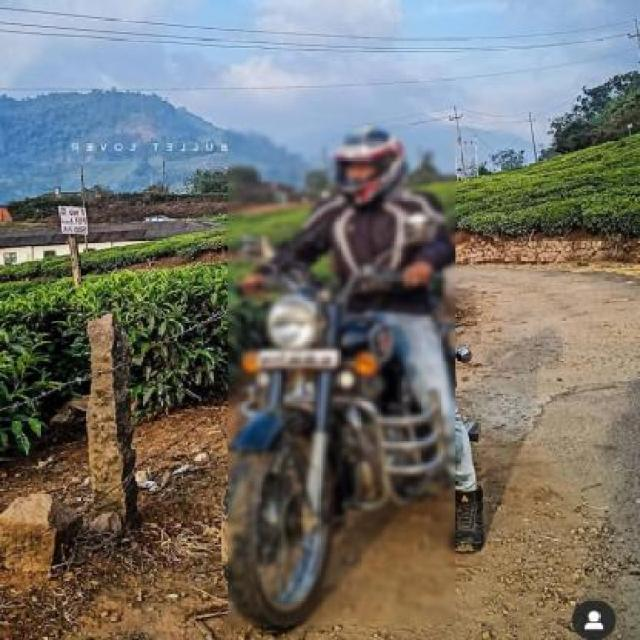helmet: (307, 122, 416, 227)
motorcycle: (172, 101, 552, 640)
